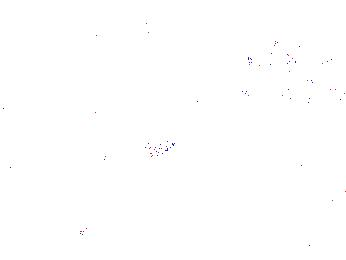X-ray fish: (98, 6, 172, 46)
glassfish: (78, 135, 180, 175)
redtail glassfish: (240, 86, 304, 116), (243, 42, 299, 70), (294, 44, 334, 75)
